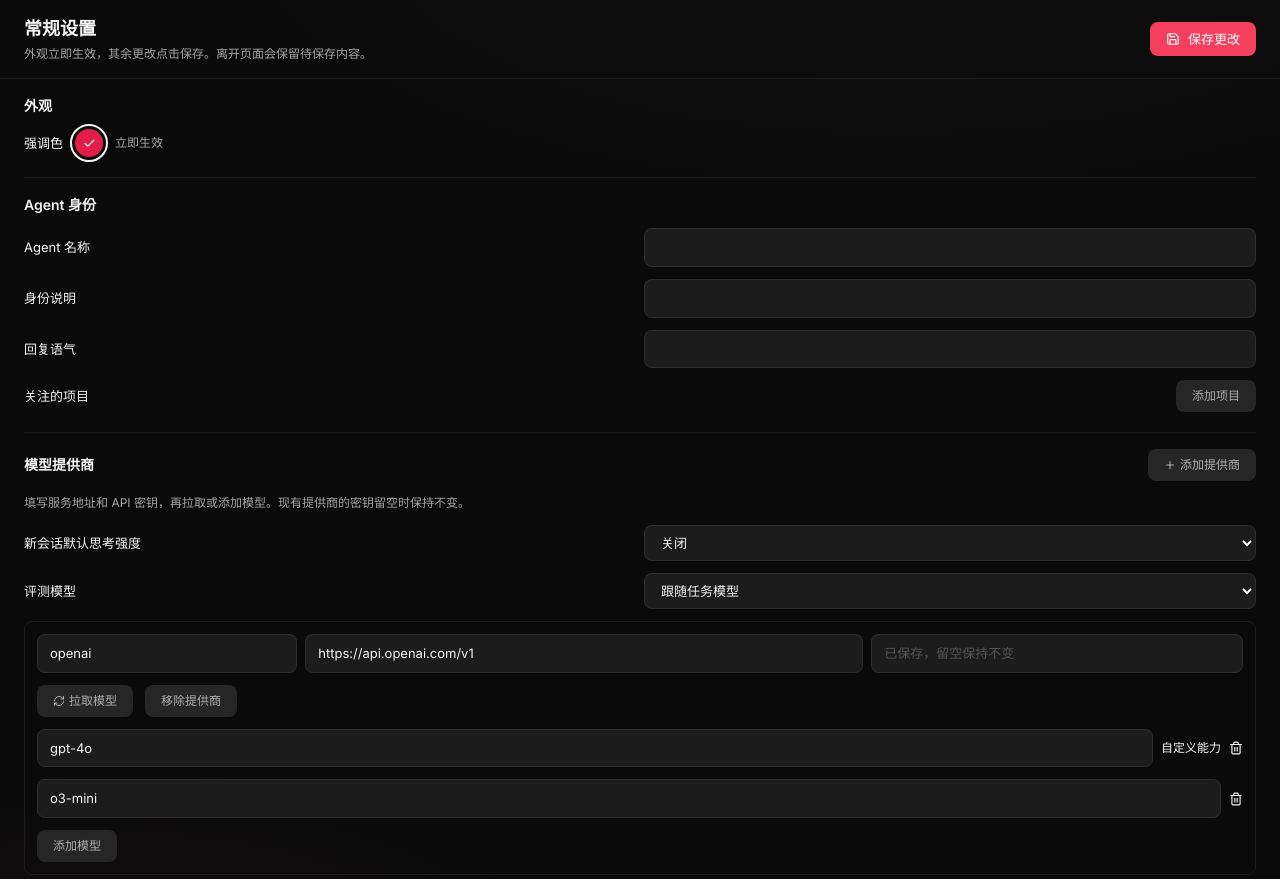
Test case: SettingsPage · Model Providers (simplified) › exposes a unified thinking mode select and maps it to model_thinking + effort
expect the heading "模型提供商" is shown: met, box [24,454,94,476]
Select "高" in the dropdown labelled "新会话默认思考强度": [950, 543] box [644,525,1256,561]
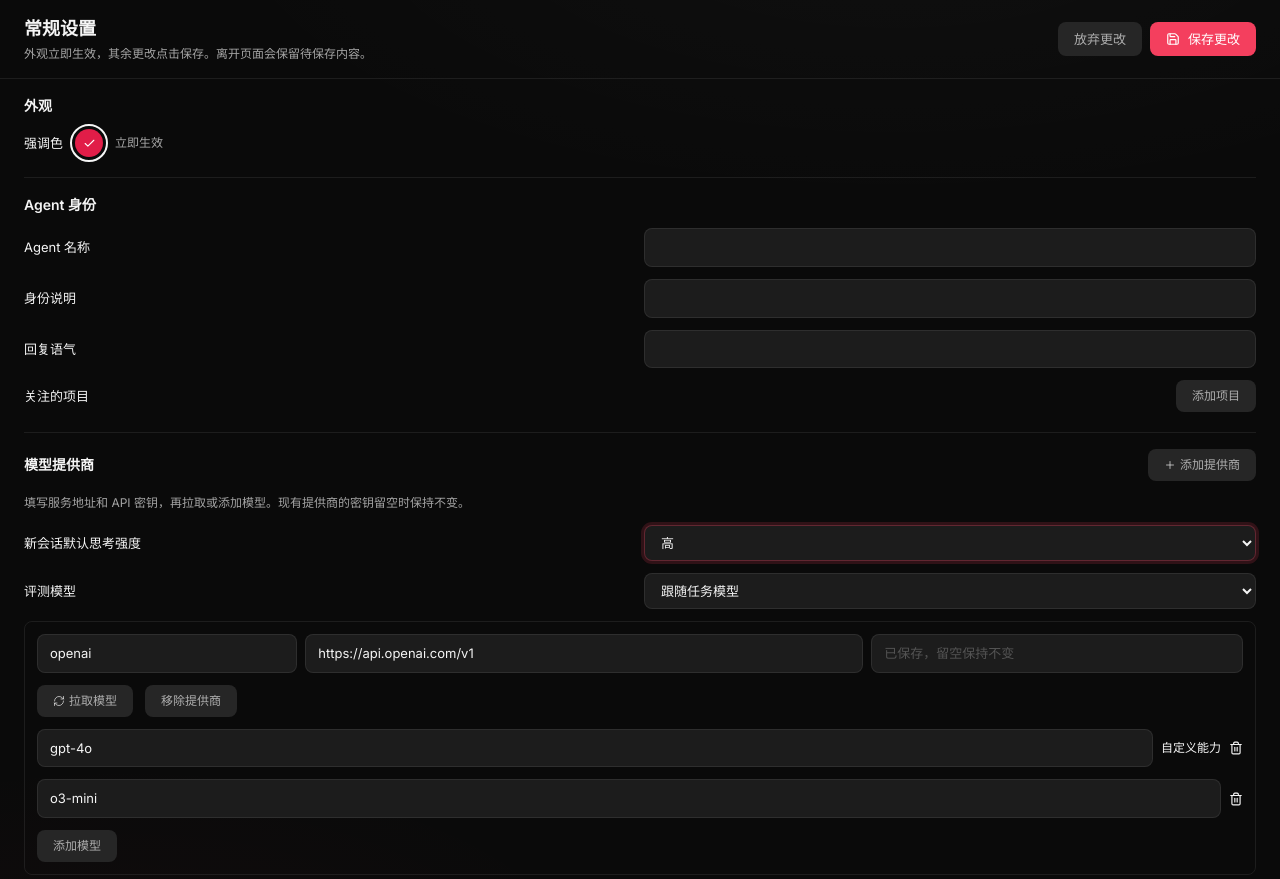
Click the button "保存更改": [1203, 39] box [1150,22,1256,56]
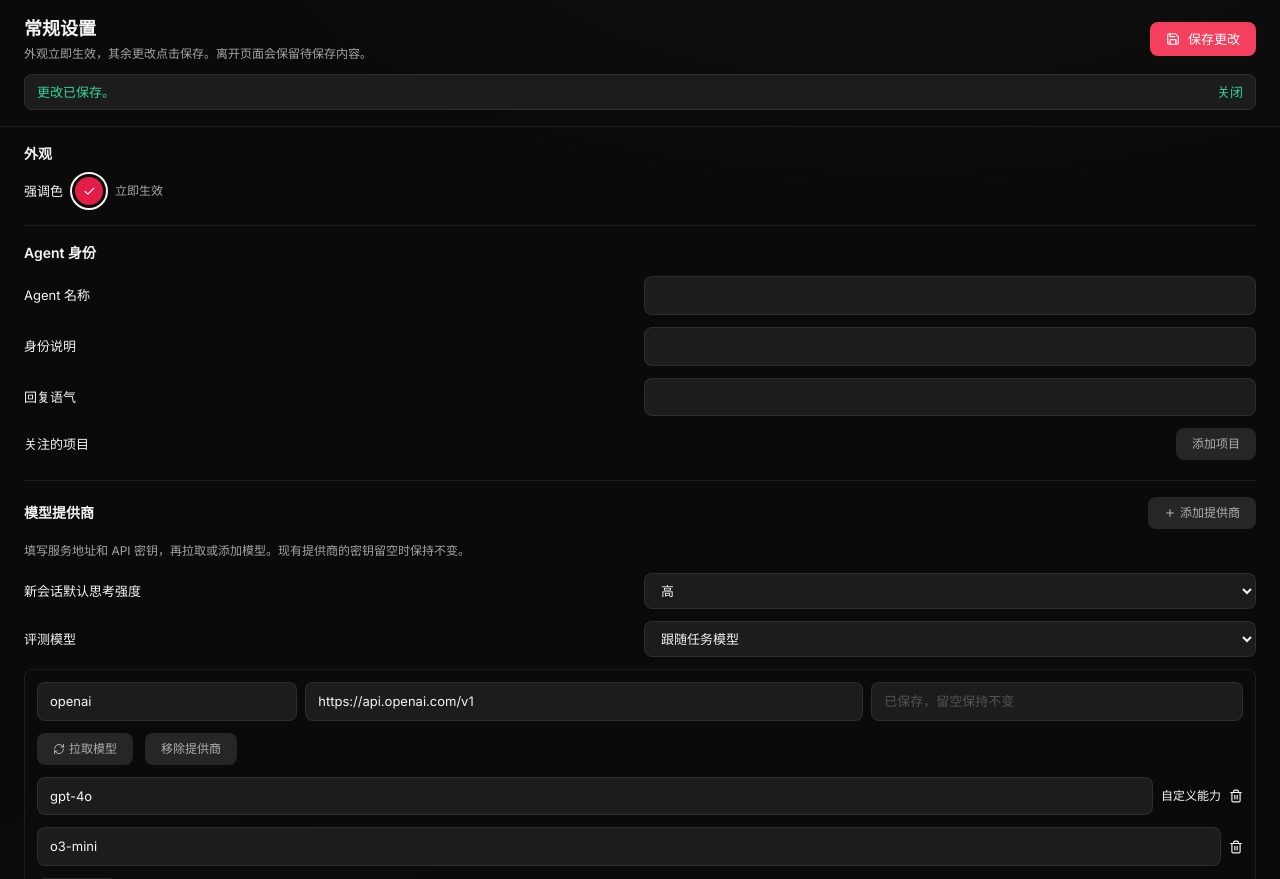
expect the text "更改已保存。" is shown: met, box [37,84,115,100]
